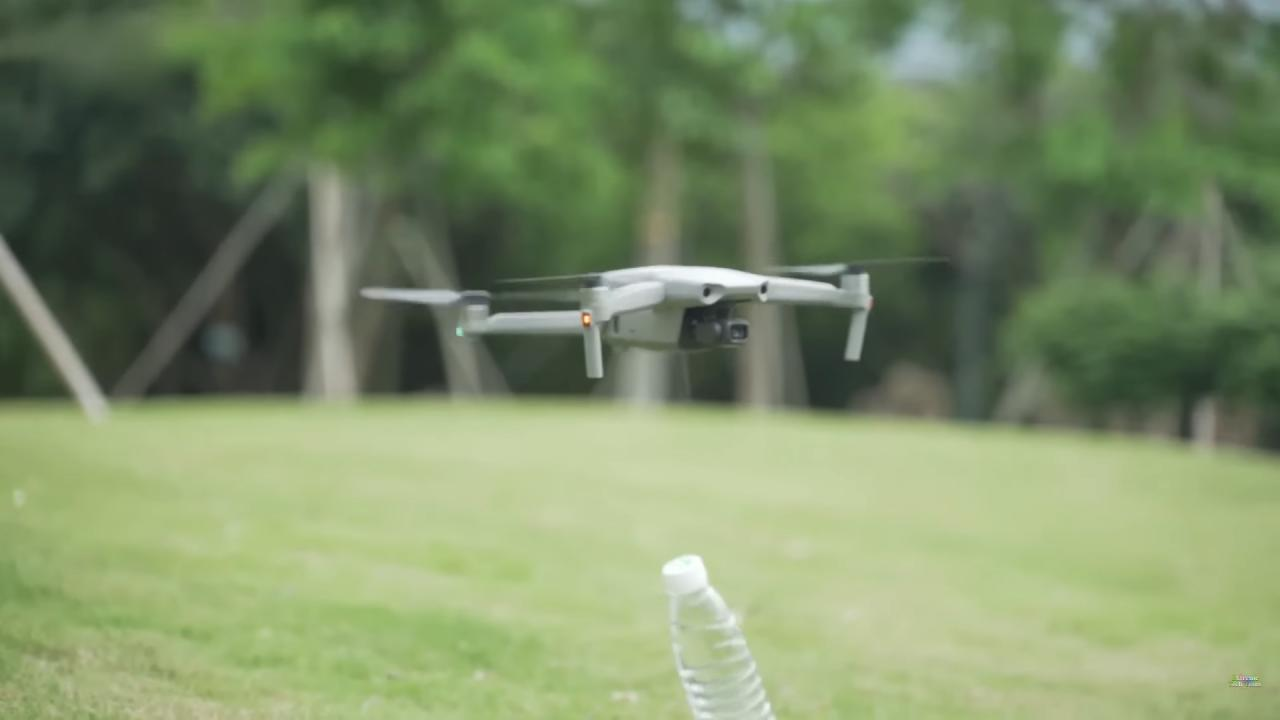Drone: (336, 230, 977, 401)
